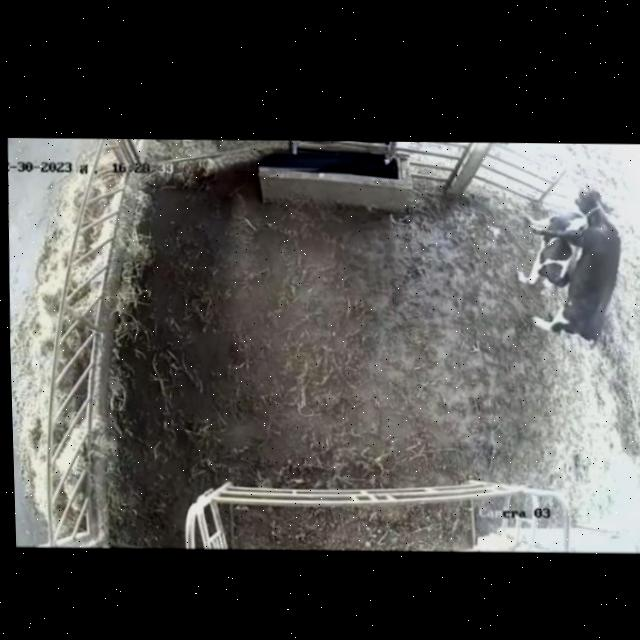ride: (511, 180, 631, 368)
stand: (518, 200, 587, 298)
